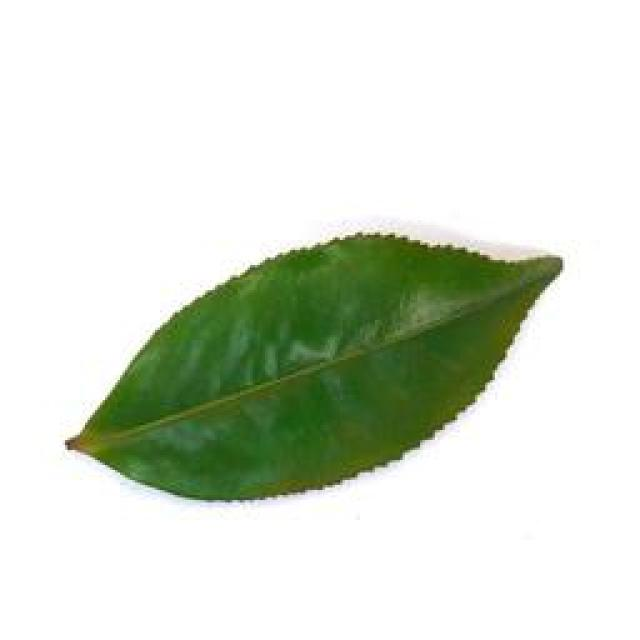Healthy: (60, 216, 566, 502)
